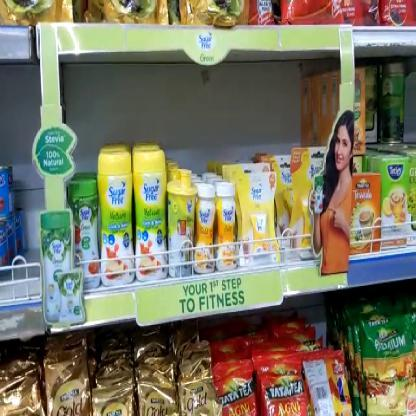SUGAR FREE GOLD 500 PELLET: (238, 169, 279, 266)
SUGAR FREE GOLD POWDER 100GM: (196, 183, 216, 277), (216, 182, 237, 271)
SUGAR FREE NATURA DIET SUGAR 80GM: (98, 146, 134, 288), (132, 147, 166, 287)
SUGAR FREE_GRN_ POWDER_CONC_100G: (70, 177, 102, 291)
